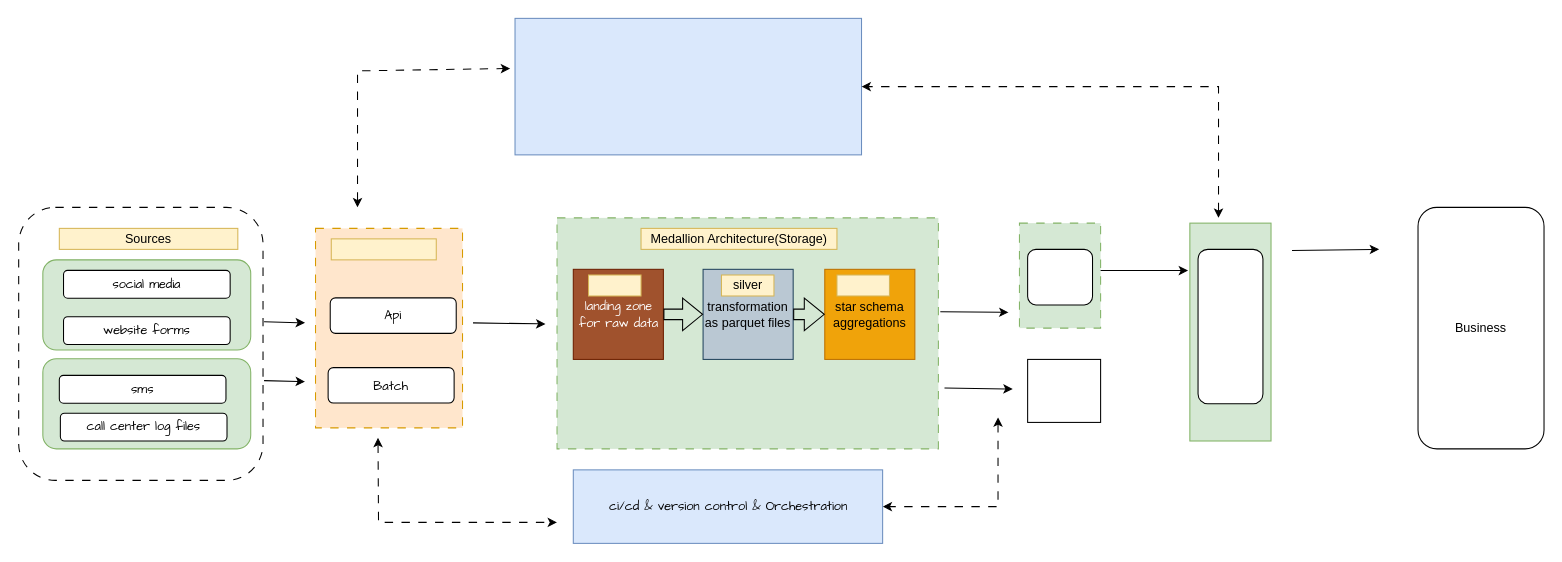
The diagram is 1562 pixels wide and 562 high, and some of its shapes have lost their labels. The shapes that lost their labels are listed below. From the top down, each one's centre as x and y in pixels, then its label:
point (688, 86): data governance & security
point (383, 249): Ingestion
point (614, 285): bronze
point (862, 285): gold
point (1060, 276): data warehouse
point (1230, 326): data analyst
point (1064, 390): ML & data scientist
